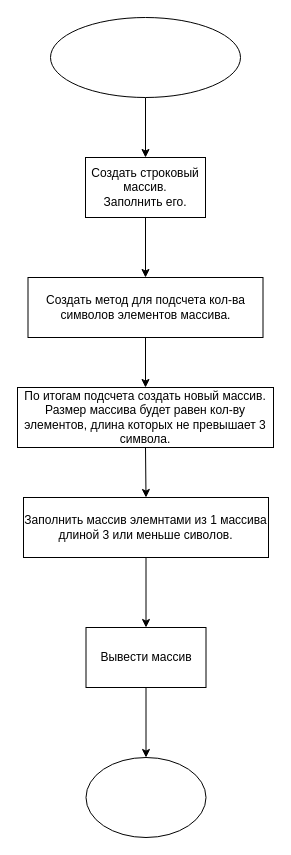
Image size: 291x855. Some labels were removed from this diagram. The centre of each missing label's shape, as x and y in pixels:
END: the point at 145,797
START: the point at 145,57
